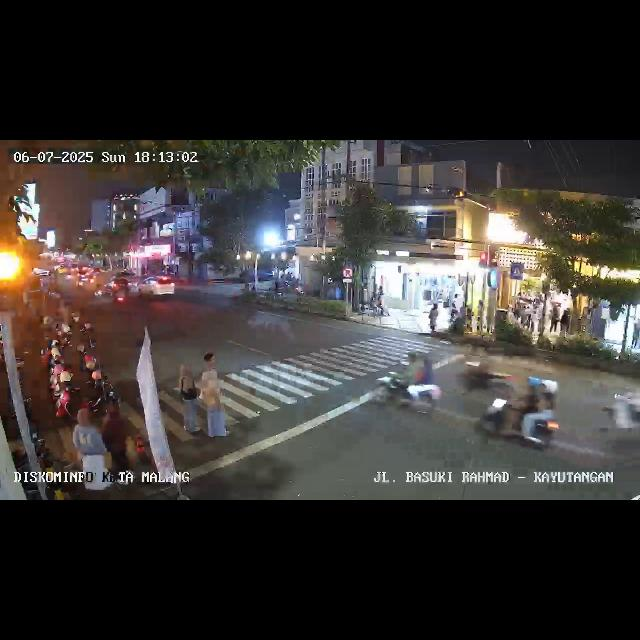car: (136, 276, 176, 300)
motorcycle: (478, 376, 562, 454), (376, 350, 446, 420), (112, 282, 128, 308)
person: (70, 407, 114, 489), (102, 391, 134, 485), (198, 366, 226, 440), (177, 363, 203, 435), (202, 348, 224, 369), (448, 292, 459, 322), (428, 302, 438, 334), (549, 304, 559, 334), (560, 305, 570, 335), (376, 288, 386, 316), (632, 322, 640, 351)
